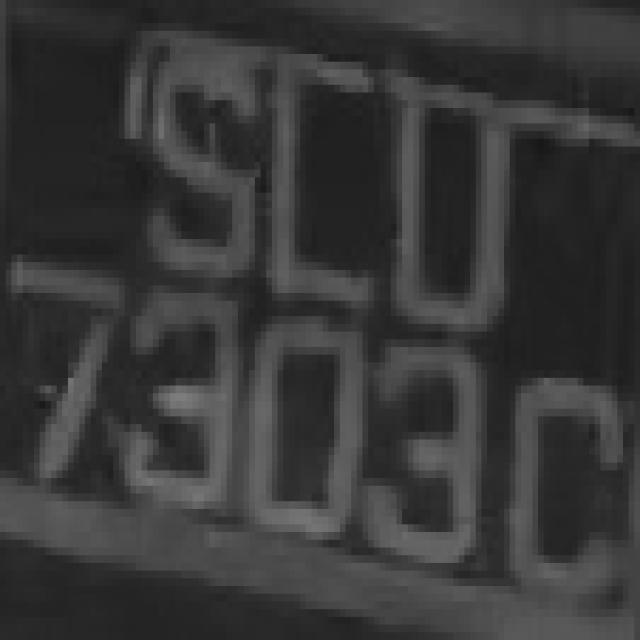0: (260, 270, 357, 563)
3: (391, 308, 487, 602), (142, 262, 244, 524)
7: (17, 224, 130, 524)
C: (516, 347, 618, 632)
L: (249, 38, 391, 332)
S: (136, 23, 243, 301)
U: (385, 31, 527, 385)
